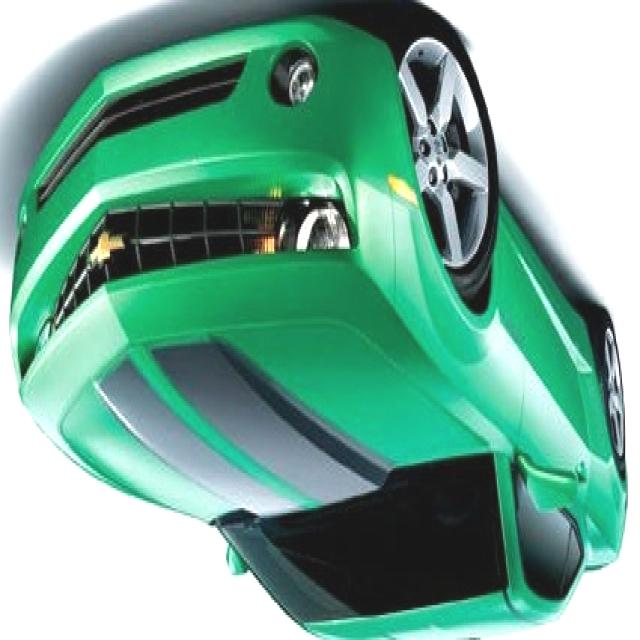green: (9, 0, 639, 638)
